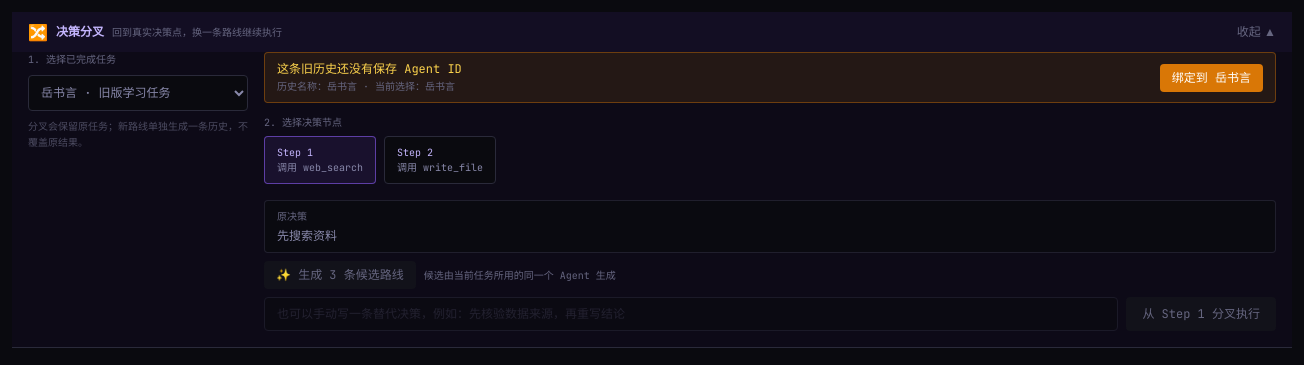
DecisionForkPanel › binds a legacy history to the explicitly selected same-name Agent
Click the button "绑定到 岳书言". click: (1211, 78)
box: [1160,64,1263,92]
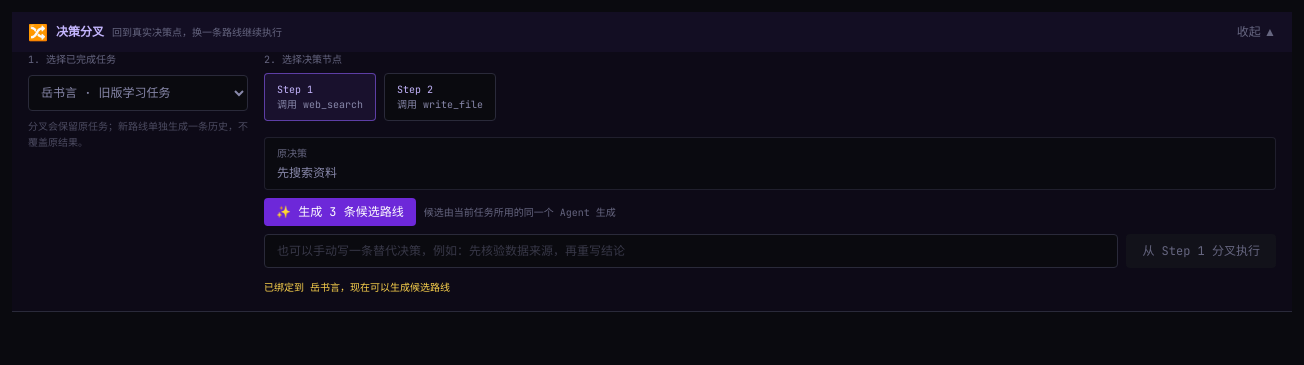
Now the text "已绑定到 岳书言，现在可以生成候选路线" is shown, box [264,281,450,294]
Now the button "✨ 生成 3 条候选路线" is enabled, box [264,198,416,226]
